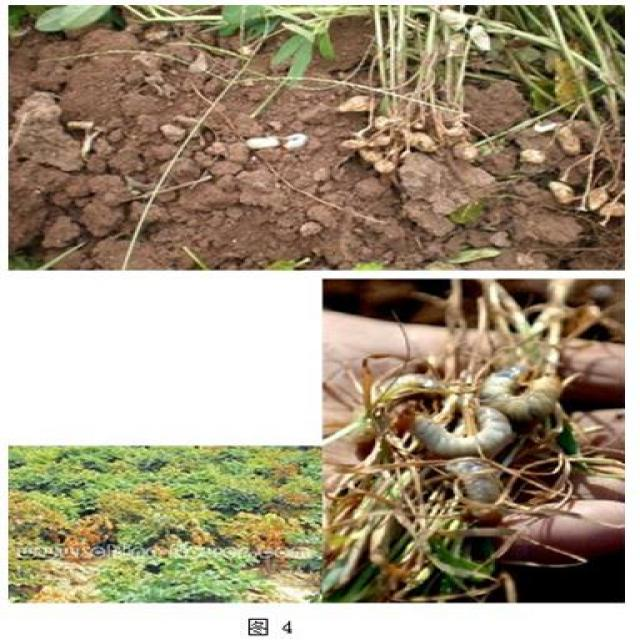Grub-Adult-: (384, 400, 525, 454), (439, 444, 532, 519), (475, 360, 574, 415), (523, 108, 566, 140), (279, 126, 315, 160)
